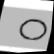no answer: (11, 13, 50, 45)
